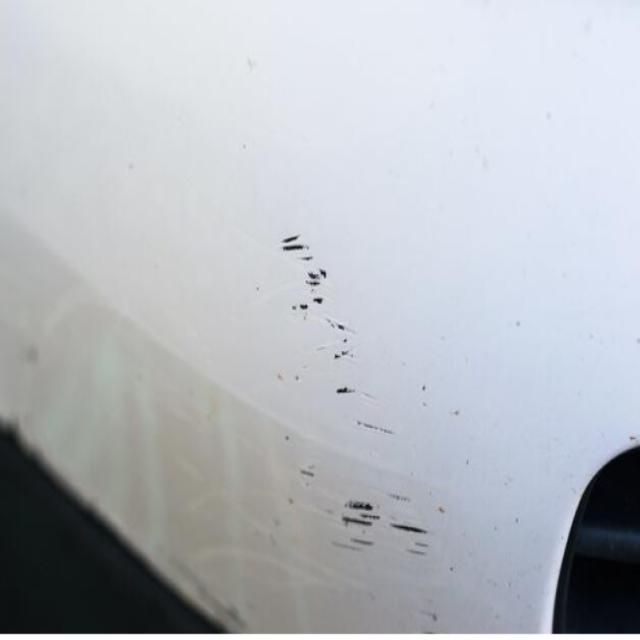scratch: (265, 354, 442, 502), (266, 205, 443, 352), (269, 503, 446, 634)
